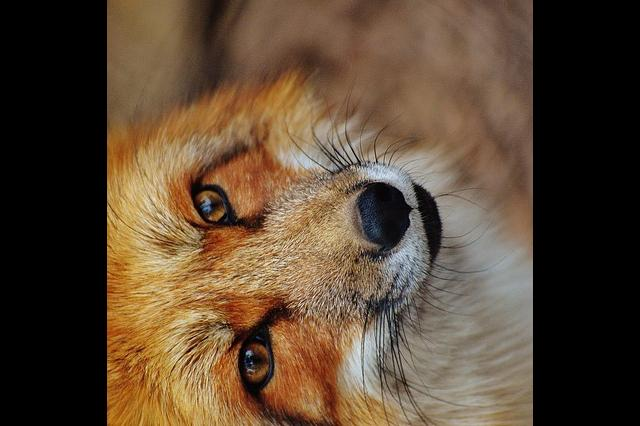Non_Gorille: (112, 56, 515, 426)
